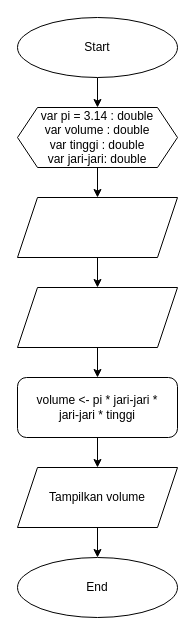
Some shapes in this 195 by 635 pixel diagram are drawn without their labels. Each missing label, with the box of its shape:
Masukkan nilai jari-jari: (16, 196, 178, 258)
Masukkan nilai tinggi tabung: (16, 286, 178, 348)
